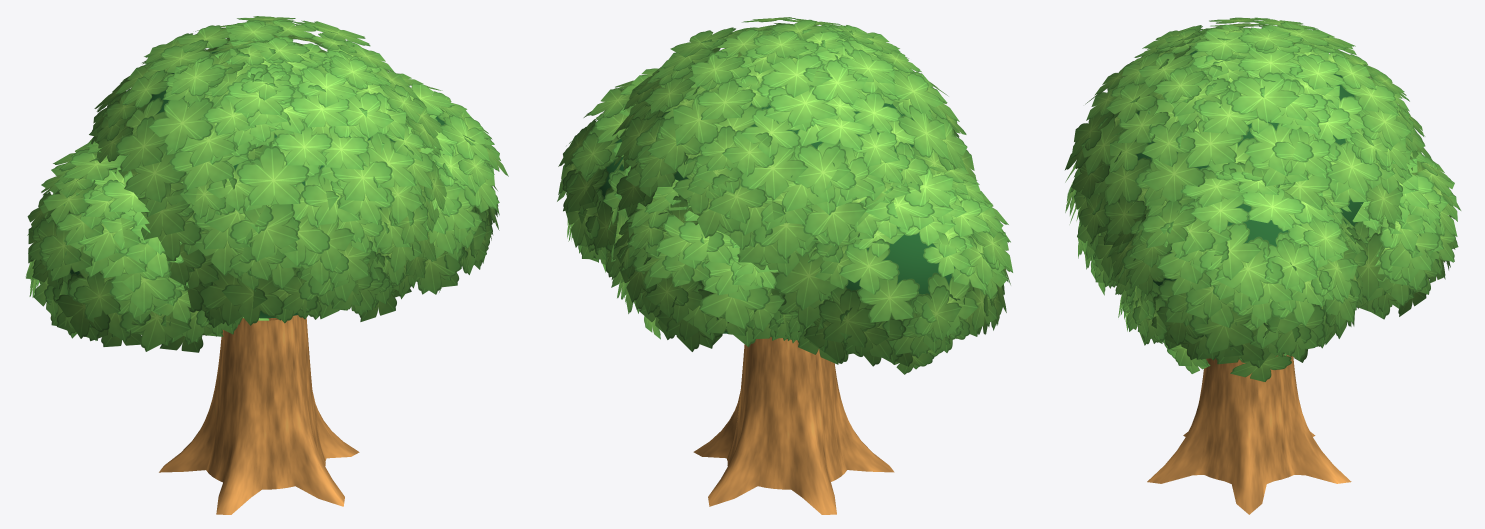
Rendered from tree_fruit.glb.
3 renders of one model, left to right at view 1: azimuth 30°, elevation 25°; view 2: azimuth 150°, elevation 25°; view 3: azimuth 270°, elevation 25°, orthographic.
Parts seen in each view (by area): view 1: Lump0, Lump1, Trunk, Lump2, Lump4; view 2: Lump0, Lump1, Trunk, Lump3, Lump2, Lump4, Lump1Core; view 3: Lump0, Lump2, Trunk, Lump3, Lump4, Lump2Core, Lump0Core.
Boxes of the visible parts, left/top/right/bottom form: Lump0: left=88, top=16, right=446, bottom=336; Lump1: left=25, top=141, right=245, bottom=352; Trunk: left=159, top=315, right=359, bottom=514; Lump2: left=394, top=73, right=508, bottom=297; Lump4: left=204, top=37, right=331, bottom=166; Lump0: left=607, top=17, right=976, bottom=339; Lump1: left=791, top=159, right=1012, bottom=374; Trunk: left=693, top=337, right=894, bottom=514; Lump3: left=609, top=179, right=802, bottom=351; Lump2: left=557, top=68, right=692, bottom=277; Lump4: left=738, top=19, right=902, bottom=114; Lump1Core: left=846, top=226, right=970, bottom=294; Lump0: left=1064, top=17, right=1432, bottom=308; Lump2: left=1107, top=166, right=1365, bottom=381; Trunk: left=1147, top=354, right=1351, bottom=514; Lump3: left=1352, top=150, right=1461, bottom=319; Lump4: left=1147, top=24, right=1282, bottom=99; Lump2Core: left=1153, top=203, right=1301, bottom=285; Lump0Core: left=1135, top=74, right=1363, bottom=226.
Bounding box in the file's own units: 5.08 × 4.68 × 4.07.
Materials: 3 (2 with a texture image).
